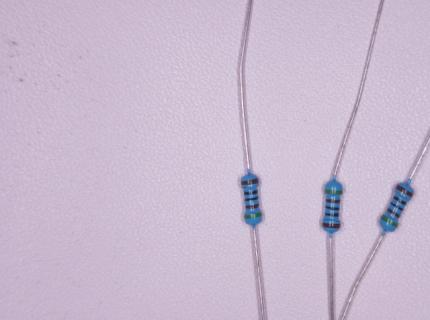Black band: (389, 201, 404, 212), (393, 195, 407, 206), (244, 190, 258, 196), (325, 206, 340, 211), (245, 197, 259, 202), (325, 212, 339, 217)
Brown band: (395, 184, 414, 198), (387, 208, 401, 219), (240, 178, 259, 185), (245, 203, 260, 209), (323, 223, 341, 228), (325, 199, 340, 204)
Green band: (380, 214, 398, 228), (244, 212, 262, 219), (325, 189, 343, 195)
